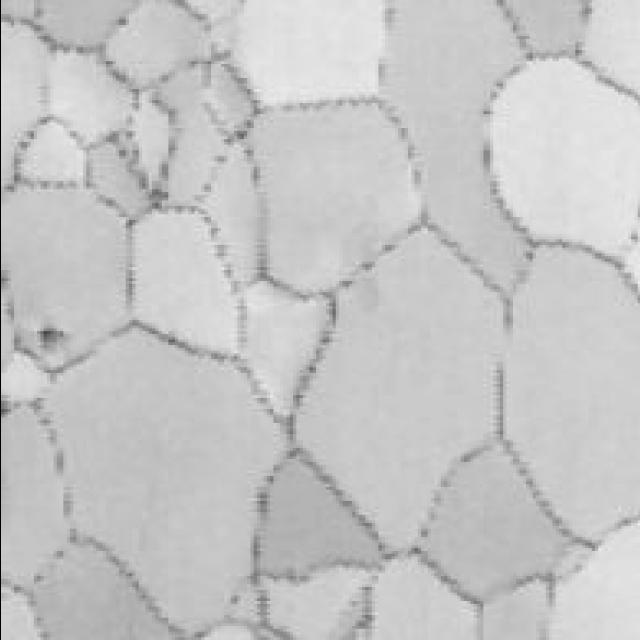good_void: (34, 324, 72, 353), (228, 593, 242, 606)
